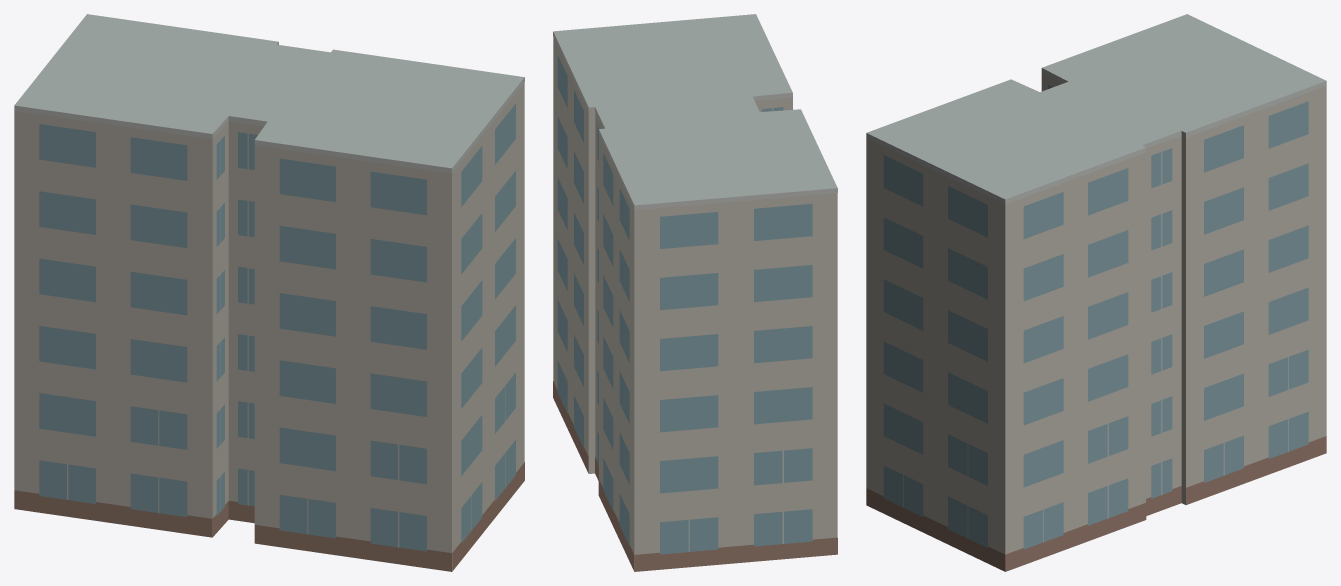
File: survey-upis-32598998.glb
The picture shows the model from 3 angles, left to right: view 1: azimuth 30°, elevation 25°; view 2: azimuth 150°, elevation 25°; view 3: azimuth 270°, elevation 25°; orthographic projection. The views are drawn at different scales.
Parts seen in each view (by area): view 1: survey-upis-32598998.tmp; view 2: survey-upis-32598998.tmp; view 3: survey-upis-32598998.tmp.
Part boxes in pixels (bbox=[...]): survey-upis-32598998.tmp: bbox=[14, 14, 524, 571]; survey-upis-32598998.tmp: bbox=[553, 14, 837, 571]; survey-upis-32598998.tmp: bbox=[866, 14, 1326, 571].
Bounding box in the file's own units: 19.99 × 18.7 × 20.96.
